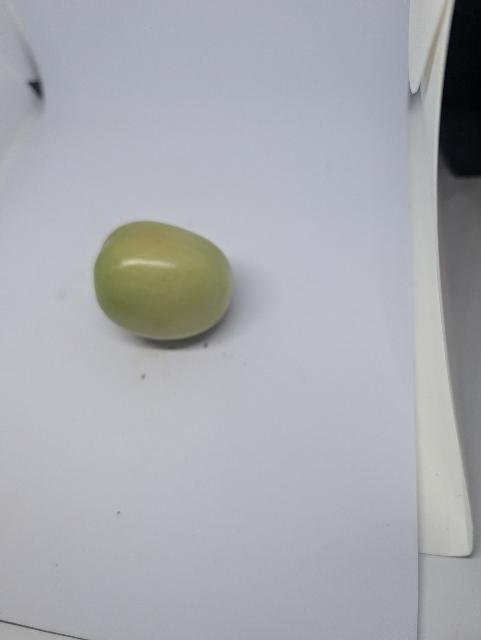green: (66, 200, 256, 361)
